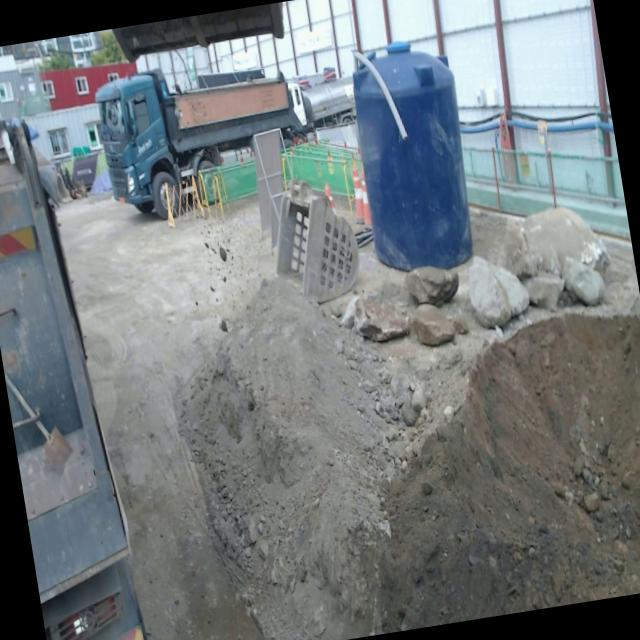stone: (520, 207, 611, 305), (467, 214, 533, 328), (342, 284, 414, 341), (405, 266, 459, 305), (413, 304, 457, 346)
white-sand: (62, 200, 640, 640)
